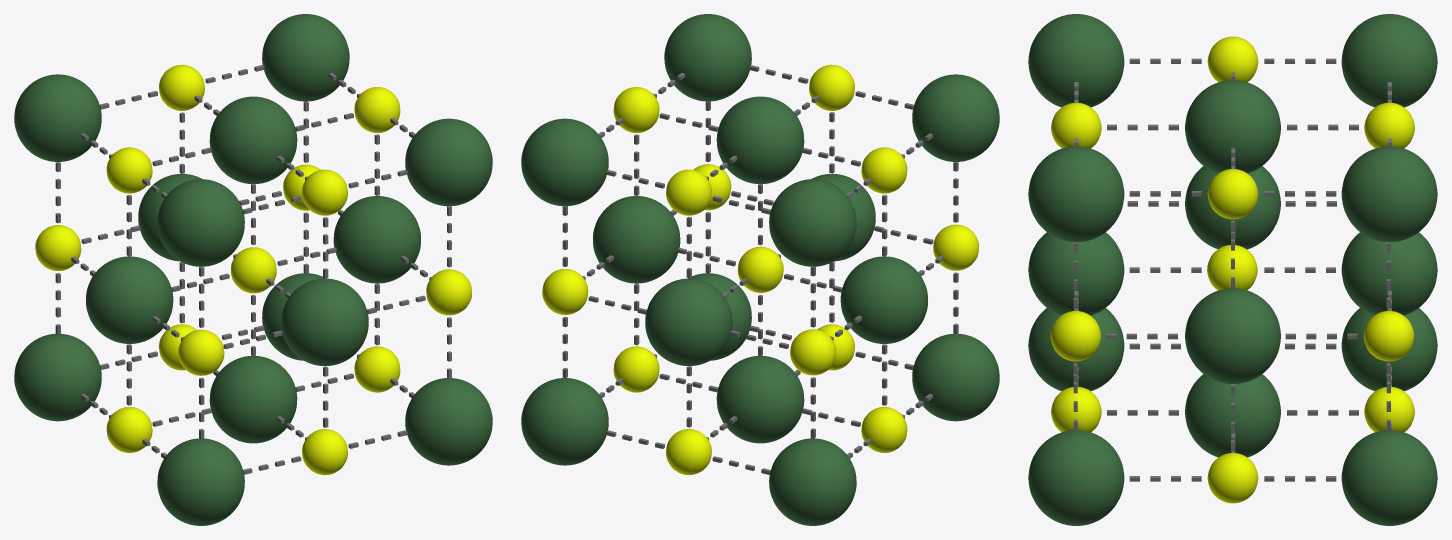
Rendered from lvhuana2.FBX.
The picture shows the model from 3 angles, left to right: view 1: azimuth 30°, elevation 25°; view 2: azimuth 150°, elevation 25°; view 3: azimuth 270°, elevation 25°; orthographic projection. The views are drawn at different scales.
Visible parts, largest first — view 1: pSphere15, pSphere26, pSphere18, pSphere24, pSphere29, pSphere14, pSphere22, pSphere19, pSphere27, pSphere28, pSphere17, pSphere30 (+15 smaller); view 2: pSphere19, pSphere16, pSphere17, pSphere28, pSphere25, pSphere14, pSphere22, pSphere15, pSphere29, pSphere18, pSphere27, pSphere30 (+15 smaller); view 3: pSphere28, pSphere29, pSphere16, pSphere26, pSphere30, pSphere15, pSphere22, pSphere19, pSphere24, pSphere14, pSphere25, pSphere18 (+12 smaller).
Boxes of the visible parts, x1,y1,x2,y2 form: pSphere15: (157, 179, 244, 266); pSphere26: (405, 378, 492, 465); pSphere18: (157, 438, 244, 525); pSphere24: (281, 278, 368, 365); pSphere29: (405, 118, 492, 206); pSphere14: (209, 356, 297, 443); pSphere22: (209, 96, 297, 183); pSphere19: (14, 74, 101, 161); pSphere27: (86, 256, 173, 343); pSphere28: (262, 14, 349, 101); pSphere17: (14, 333, 101, 421); pSphere30: (333, 196, 420, 283); pSphere19: (769, 179, 856, 266); pSphere16: (521, 378, 608, 465); pSphere17: (769, 438, 856, 525); pSphere28: (521, 118, 608, 206); pSphere25: (645, 278, 732, 365); pSphere14: (716, 356, 804, 443); pSphere22: (716, 96, 804, 183); pSphere15: (912, 74, 999, 161); pSphere29: (664, 14, 751, 101); pSphere18: (912, 333, 999, 421); pSphere27: (840, 256, 927, 343); pSphere30: (593, 196, 680, 283); pSphere28: (1341, 146, 1437, 242); pSphere29: (1028, 146, 1124, 242); pSphere16: (1341, 430, 1437, 525); pSphere26: (1028, 430, 1124, 525); pSphere30: (1185, 288, 1280, 383); pSphere15: (1028, 14, 1124, 107); pSphere22: (1185, 80, 1280, 173); pSphere19: (1341, 14, 1437, 107); pSphere24: (1028, 232, 1124, 315); pSphere14: (1185, 374, 1280, 457); pSphere25: (1341, 232, 1437, 315); pSphere18: (1028, 308, 1124, 391).
Size of the model in its own units: 37.97 by 37.95 by 37.97.
